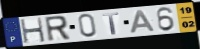0: (77, 13, 98, 39)
6: (156, 6, 176, 32)
A: (129, 9, 156, 35)
H: (19, 17, 47, 45)
R: (43, 15, 72, 43)
T: (101, 11, 121, 36)
